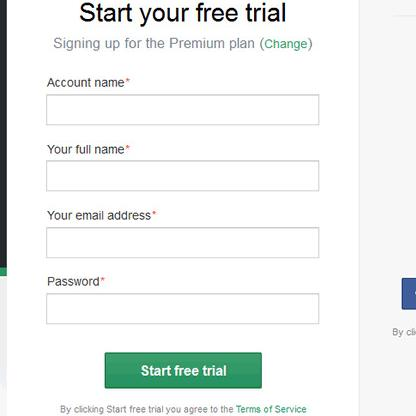button: (104, 351, 263, 389)
field: (45, 94, 321, 127), (44, 292, 320, 325), (45, 159, 320, 192), (44, 225, 319, 258)
field_with_label: (42, 76, 323, 128), (42, 210, 321, 260), (42, 276, 320, 326), (43, 144, 322, 193)
